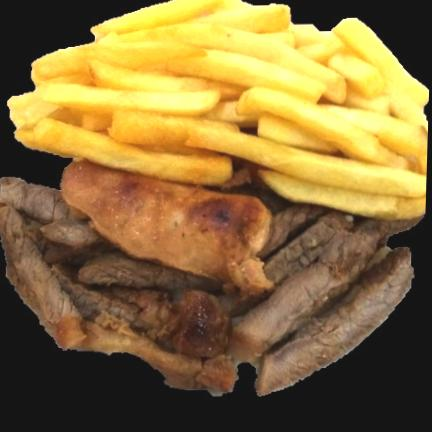chicken: (62, 161, 273, 292)
meat: (0, 178, 417, 394)
potato: (9, 0, 429, 217)
